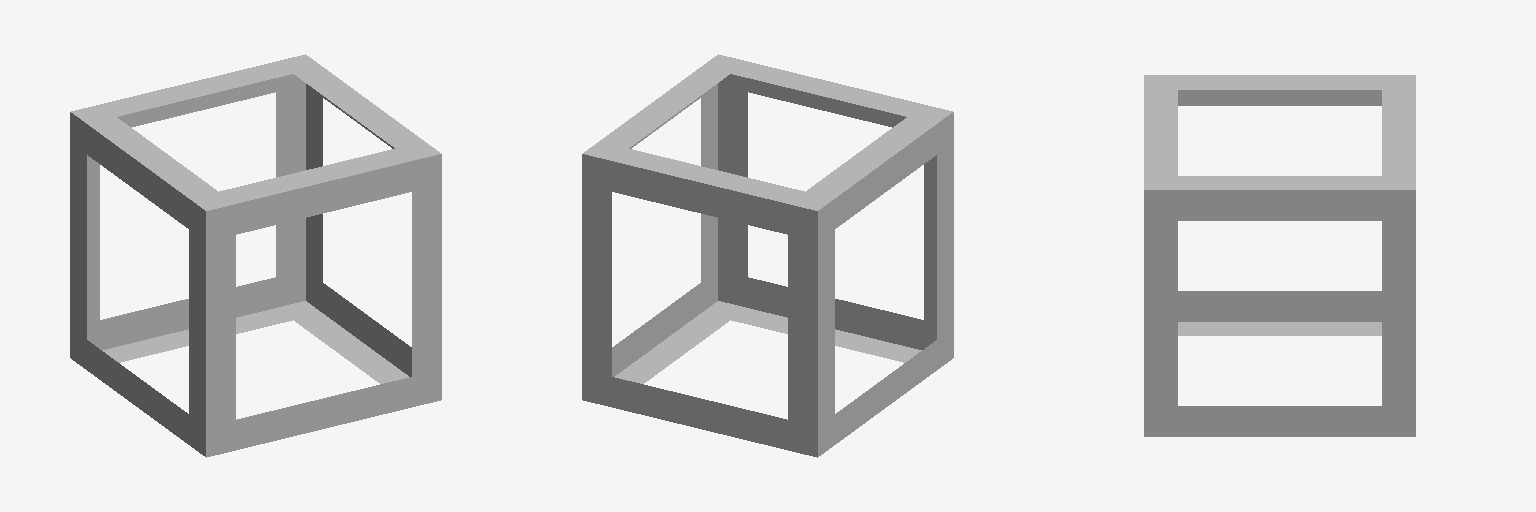
Rendered from ghost.obj.
3 renders of one model, left to right at view 1: azimuth 30°, elevation 25°; view 2: azimuth 150°, elevation 25°; view 3: azimuth 270°, elevation 25°, orthographic.
Visible parts, largest first — view 1: Cube; view 2: Cube; view 3: Cube.
Boxes of the visible parts, x1=… form: Cube: x1=70, y1=54, x2=441, y2=457; Cube: x1=582, y1=54, x2=953, y2=457; Cube: x1=1144, y1=75, x2=1415, y2=436.
Bounding box in the file's own units: 0.8 × 0.8 × 0.8.